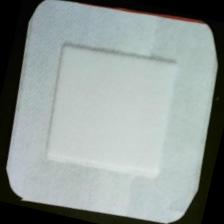Dressing: (1, 1, 224, 224)
Red_T: (55, 1, 220, 45)
